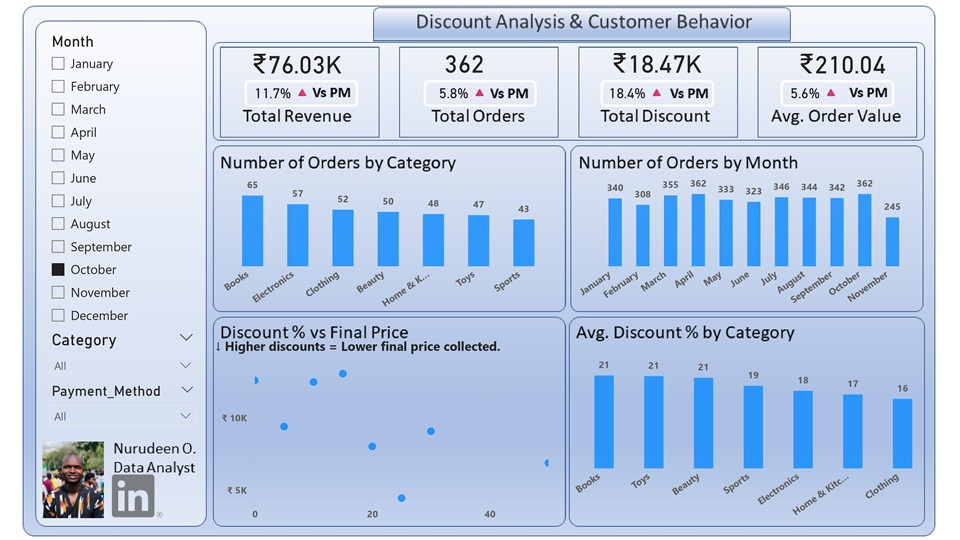

This screenshot's page, from the dashboard's own definition file:
{"tool":"powerbi","page":{"name":"Page 2","canvas":[1280,720],"ordinal":1},"visuals":[{"type":"slicer","fields":{"Values":["ecommerce_dataset.Purchase_Date.Variation.Date Hierarchy.Month"]},"box":[85,53,205,386],"z":0},{"type":"slicer","fields":{"Values":["ecommerce_dataset.Category"]},"box":[85,430,205,74],"z":1000},{"type":"slicer","fields":{"Values":["ecommerce_dataset.Payment_Method"]},"box":[85,496,205,79],"z":2000},{"type":"card","fields":{"Values":["Measures Table.Total Revenue"]},"box":[335,54,147,85],"z":3000},{"type":"card","fields":{"Values":["Measures Table.Total Orders"]},"box":[547,53,147,85],"z":4000},{"type":"card","fields":{"Values":["Measures Table.Total Discount"]},"box":[791,53,147,85],"z":5000},{"type":"card","fields":{"Values":["Measures Table.Average Order Value"]},"box":[1026,54,147,85],"z":6000},{"type":"scatterChart","fields":{"Y":["Sum(ecommerce_dataset.Final_Price(Rs.))"],"X":["ecommerce_dataset.Discount (%)"]},"box":[308,459,431,227],"z":7000},{"type":"columnChart","fields":{"Y":["Avg(ecommerce_dataset.Discount (%))"],"Category":["ecommerce_dataset.Category"]},"box":[753,451,467,235],"z":8000},{"type":"columnChart","fields":{"Category":["ecommerce_dataset.Category"],"Y":["Measures Table.Total Orders"]},"box":[308,227,431,192],"z":9000},{"type":"columnChart","fields":{"Y":["Measures Table.Total Orders"],"Category":["ecommerce_dataset.Purchase_Date.Variation.Date Hierarchy.Month"]},"box":[760,227,431,192],"z":10000},{"type":"textbox","box":[300,439,386,39],"z":11000},{"type":"card","fields":{"Values":["Measures Table.% MOM Revenue"]},"box":[342,103,99,64],"z":11001},{"type":"card","fields":{"Values":["Measures Table.% MOM Orders"]},"box":[571,103,99,64],"z":11002},{"type":"card","fields":{"Values":["Measures Table.% MOM Discount"]},"box":[791,103,99,64],"z":11003},{"type":"card","fields":{"Values":["Measures Table.% MOM Avg Order value"]},"box":[1016,103,99,64],"z":11004}]}

Visuals, with their boxes in screenshot pixels (x1, y1, x2, y2), scaled from the page's 1280x720 canvas onto the 960x540 screenshot:
slicer - ecommerce_dataset.Purchase_Date.Variation.Date Hierarchy.Month: x1=64 y1=40 x2=218 y2=329
slicer - ecommerce_dataset.Category: x1=64 y1=322 x2=218 y2=378
slicer - ecommerce_dataset.Payment_Method: x1=64 y1=372 x2=218 y2=431
card - Measures Table.Total Revenue: x1=251 y1=40 x2=362 y2=104
card - Measures Table.Total Orders: x1=410 y1=40 x2=520 y2=104
card - Measures Table.Total Discount: x1=593 y1=40 x2=704 y2=104
card - Measures Table.Average Order Value: x1=770 y1=40 x2=880 y2=104
scatterChart - Sum(ecommerce_dataset.Final_Price(Rs.)) x ecommerce_dataset.Discount (%): x1=231 y1=344 x2=554 y2=514
columnChart - Avg(ecommerce_dataset.Discount (%)) x ecommerce_dataset.Category: x1=565 y1=338 x2=915 y2=514
columnChart - ecommerce_dataset.Category x Measures Table.Total Orders: x1=231 y1=170 x2=554 y2=314
columnChart - Measures Table.Total Orders x ecommerce_dataset.Purchase_Date.Variation.Date Hierarchy.Month: x1=570 y1=170 x2=893 y2=314
textbox: x1=225 y1=329 x2=514 y2=358
card - Measures Table.% MOM Revenue: x1=256 y1=77 x2=331 y2=125
card - Measures Table.% MOM Orders: x1=428 y1=77 x2=502 y2=125
card - Measures Table.% MOM Discount: x1=593 y1=77 x2=668 y2=125
card - Measures Table.% MOM Avg Order value: x1=762 y1=77 x2=836 y2=125
